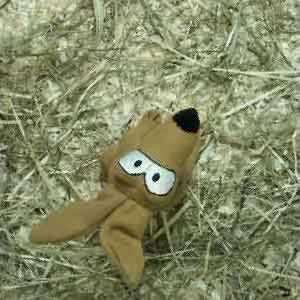dog: (28, 106, 203, 290)
